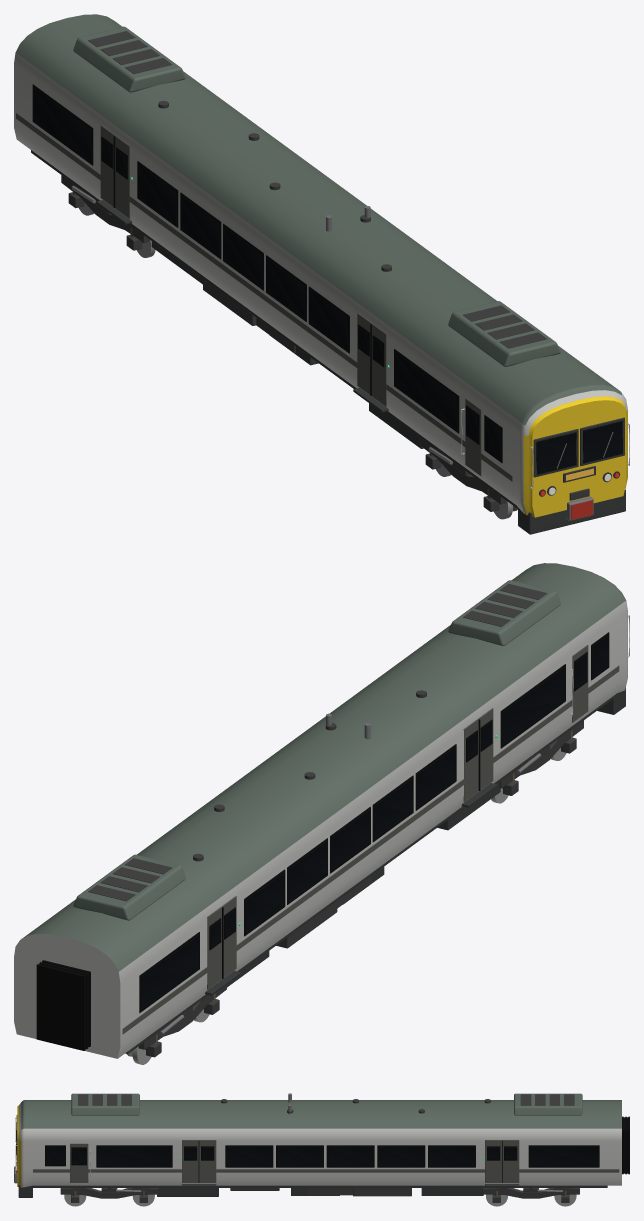
The model's file is rail.train.dmu_car.glb.
The picture shows the model from 3 angles, top to bottom: view 1: azimuth 30°, elevation 25°; view 2: azimuth 150°, elevation 25°; view 3: azimuth 270°, elevation 25°; orthographic projection. The views are drawn at different scales.
Visible parts, largest first — view 1: main__paint_666, main__paint_ccc, main__glass_dark, main__steel_444, main__paint_555, main__paint_ec2, main__paint_333, main__rubber, main__galv_777; view 2: main__paint_666, main__paint_ccc, main__glass_dark, main__rubber, main__steel_444, main__paint_555, main__paint_333; view 3: main__paint_ccc, main__paint_666, main__glass_dark, main__paint_555, main__steel_444, main__rubber, main__paint_333, main__galv_999, main__paint_ec2, main__galv_777.
Boxes of the visible parts, x1=… form: main__paint_666: x1=15, y1=14, x2=621, y2=425; main__paint_ccc: x1=14, y1=52, x2=627, y2=514; main__glass_dark: x1=33, y1=87, x2=622, y2=474; main__steel_444: x1=61, y1=31, x2=589, y2=511; main__paint_555: x1=16, y1=113, x2=512, y2=481; main__paint_ec2: x1=523, y1=396, x2=627, y2=517; main__paint_333: x1=31, y1=150, x2=625, y2=534; main__rubber: x1=32, y1=84, x2=502, y2=463; main__galv_777: x1=71, y1=186, x2=613, y2=520; main__paint_666: x1=22, y1=563, x2=626, y2=971; main__paint_ccc: x1=14, y1=601, x2=627, y2=1058; main__glass_dark: x1=141, y1=635, x2=608, y2=1009; main__rubber: x1=36, y1=632, x2=609, y2=1050; main__steel_444: x1=88, y1=583, x2=583, y2=1057; main__paint_555: x1=122, y1=645, x2=619, y2=1034; main__paint_333: x1=125, y1=687, x2=625, y2=1053; main__paint_ccc: x1=19, y1=1102, x2=621, y2=1187; main__paint_666: x1=21, y1=1093, x2=621, y2=1129; main__glass_dark: x1=16, y1=1122, x2=598, y2=1166; main__paint_555: x1=33, y1=1140, x2=619, y2=1182; main__steel_444: x1=16, y1=1094, x2=579, y2=1202; main__rubber: x1=45, y1=1116, x2=629, y2=1188; main__paint_333: x1=16, y1=1115, x2=607, y2=1197; main__galv_999: x1=64, y1=1194, x2=576, y2=1206; main__paint_ec2: x1=17, y1=1105, x2=21, y2=1186; main__galv_777: x1=14, y1=1093, x2=562, y2=1192.
Size of the model in its own units: 2.99 by 4.1 by 23.38.
